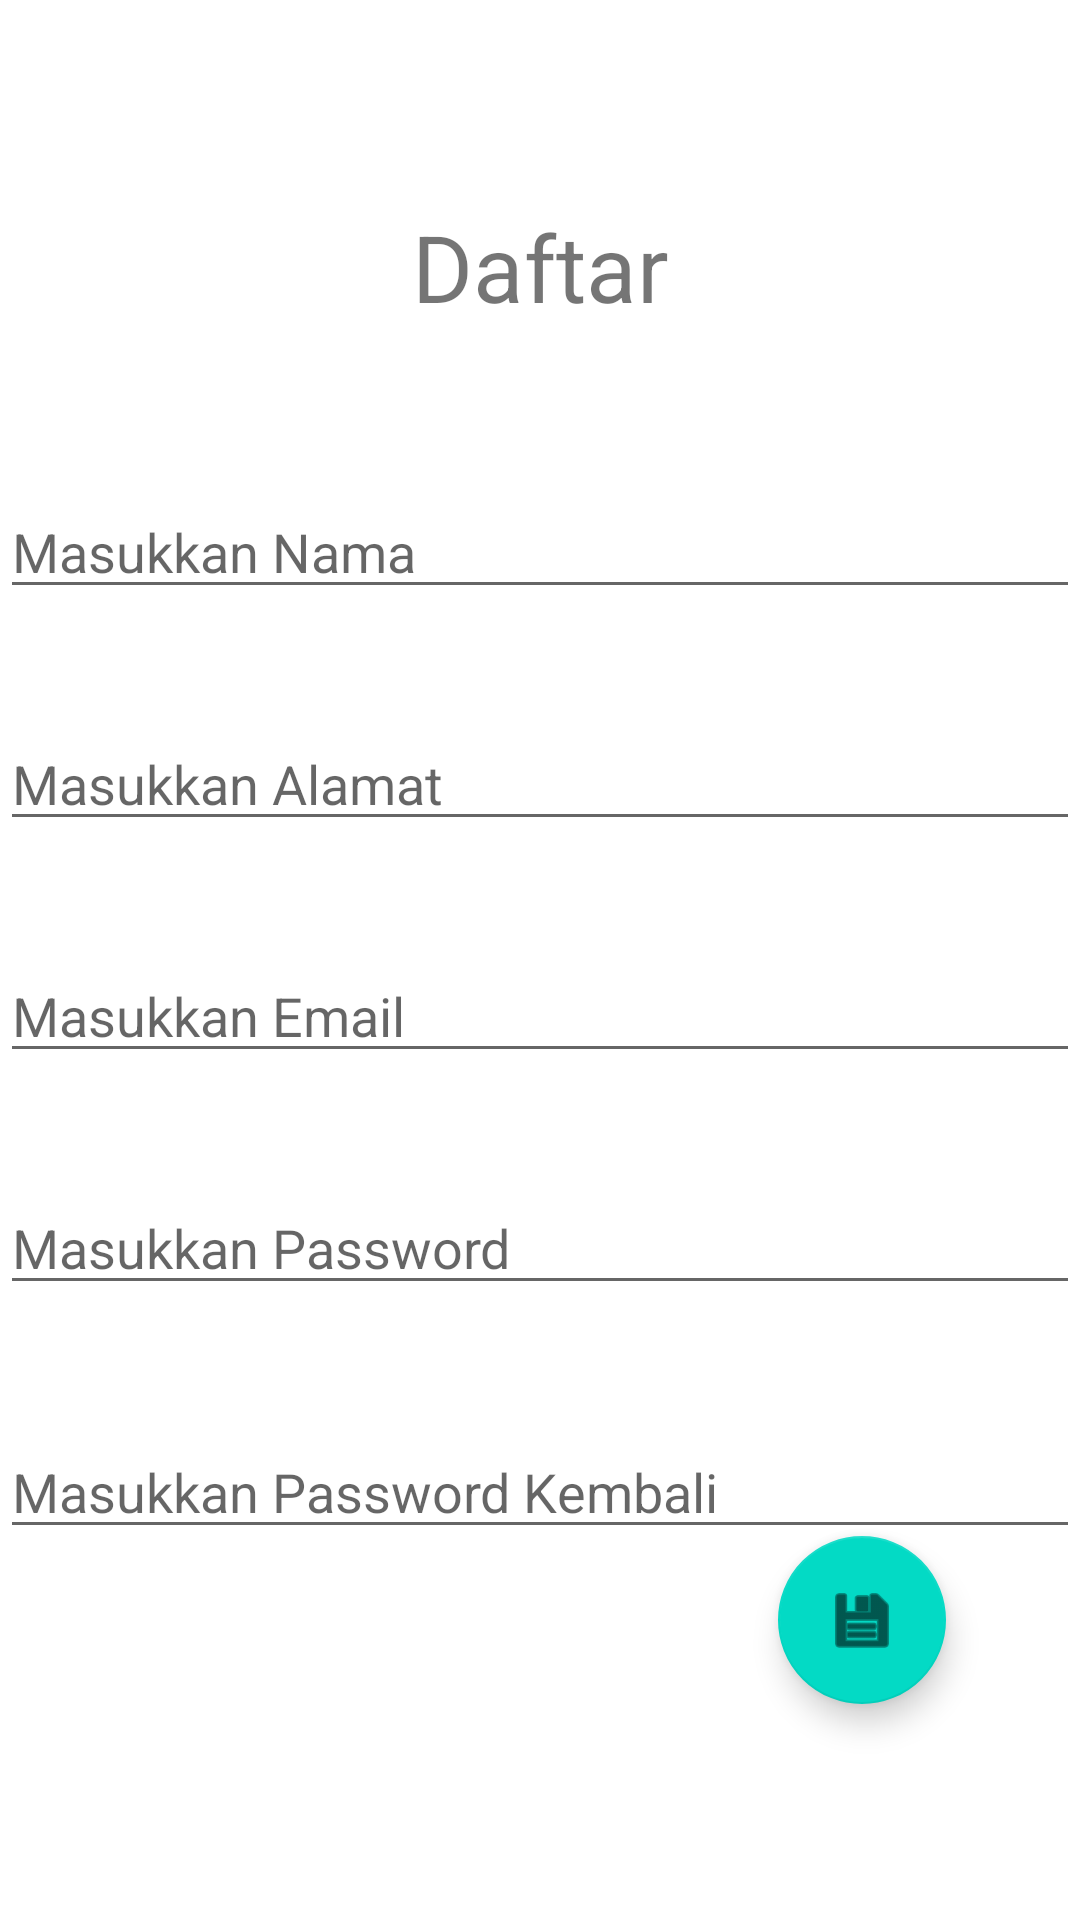

Screen size 1080*1920. Icon name, then its center in pixels as point (x, y):
Button Save: point (862, 1620)
